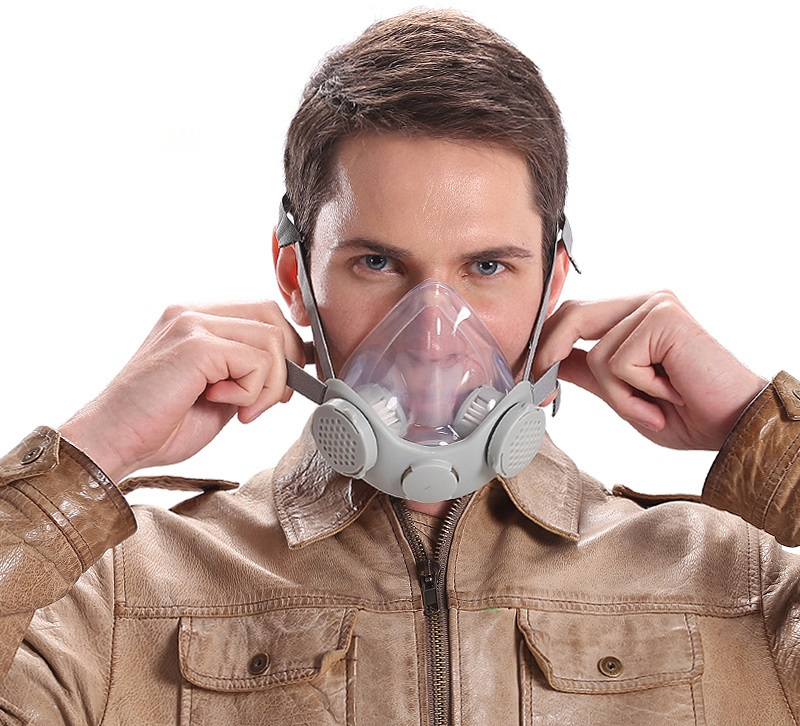face_mask: (306, 126, 549, 456)
